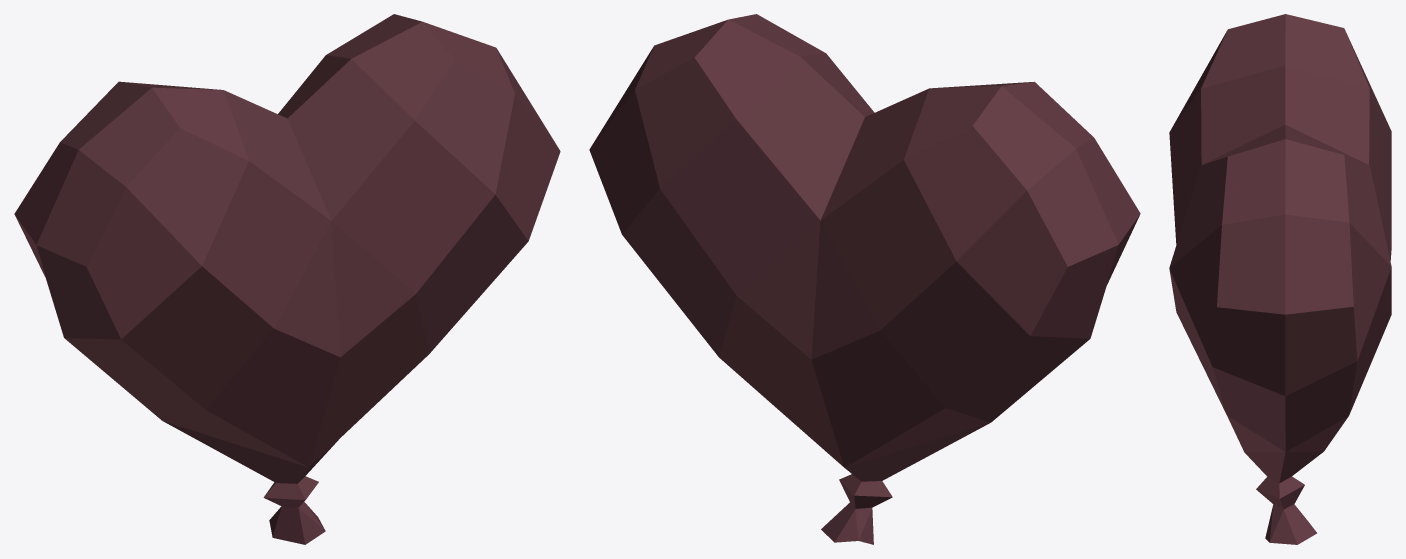
File: balloons-heart.fbx
3 renders of one model, left to right at view 1: azimuth 30°, elevation 25°; view 2: azimuth 150°, elevation 25°; view 3: azimuth 270°, elevation 25°, orthographic. The views are drawn at different scales.
Parts seen in each view (by area): view 1: balloons-heart; view 2: balloons-heart; view 3: balloons-heart.
Boxes of the visible parts, <box> form: balloons-heart: <box>14,14,560,544</box>; balloons-heart: <box>589,14,1140,544</box>; balloons-heart: <box>1169,14,1391,544</box>.
Size of the model in its own units: 0.4527 by 0.4172 by 0.1834.
